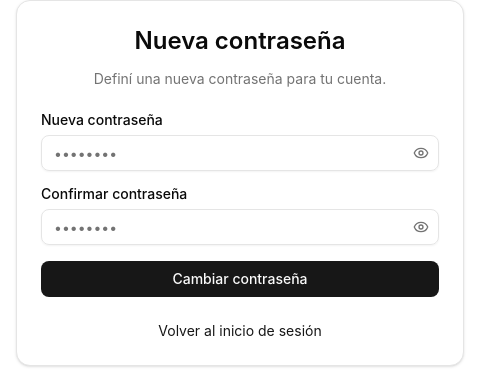
Test: ResetPasswordForm › should submit and show success when passwords match
Type "secret123" into the password field labelled "Nueva contraseña".
click(240, 153); type("secret123")  # box [41,135,439,171]
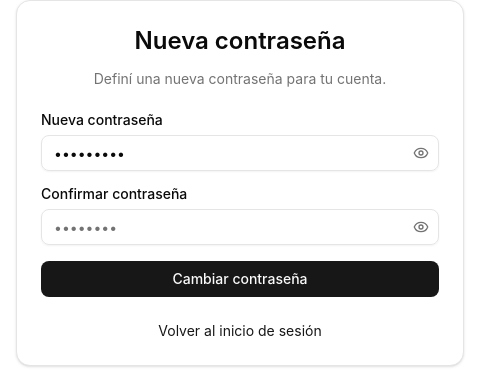
Type "secret123" into the password field labelled "Confirmar contraseña".
click(240, 227); type("secret123")  # box [41,209,439,245]
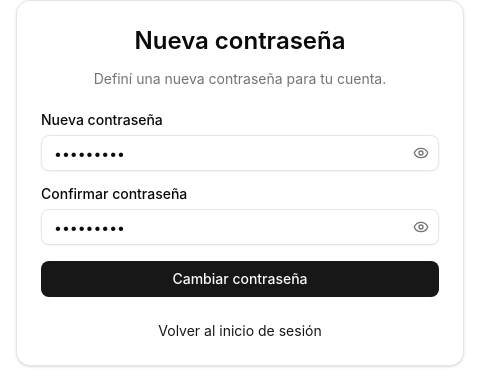
Click the button "Cambiar contraseña".
click(240, 279)  # box [41,261,439,297]
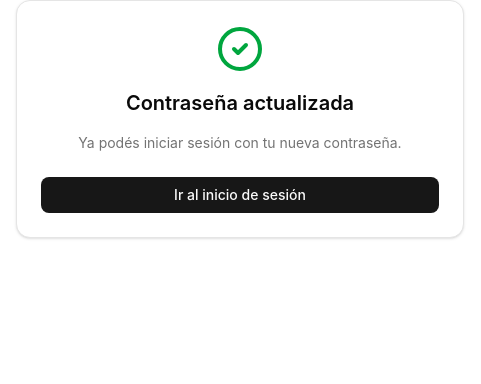
Now the text "Contraseña actualizada" is shown, box [126,91,354,115]
